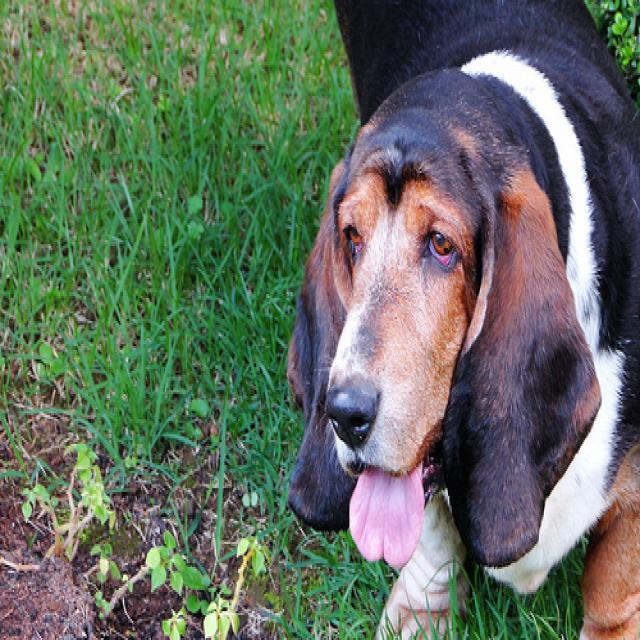dog: (284, 110, 600, 565)
